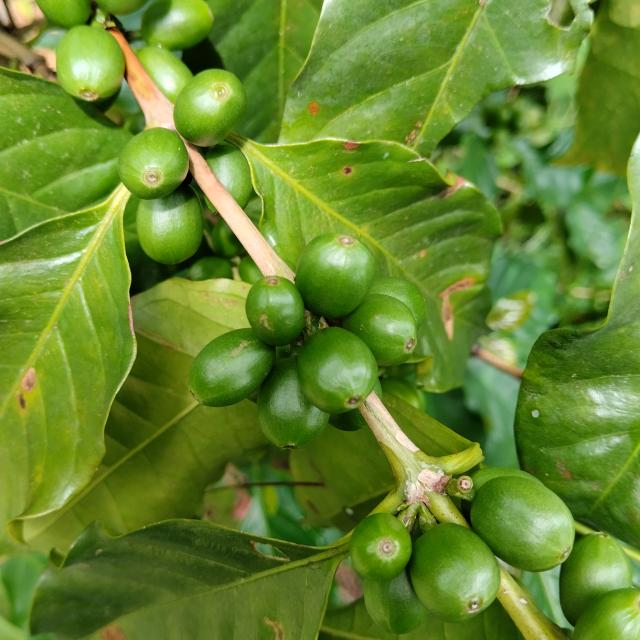green: (471, 477, 576, 573), (410, 524, 501, 624), (295, 234, 379, 319), (297, 327, 378, 414), (188, 328, 276, 407), (257, 355, 330, 449), (560, 533, 633, 627), (173, 68, 246, 146), (343, 294, 417, 366), (55, 24, 124, 101), (136, 185, 203, 264), (118, 127, 188, 199), (350, 514, 412, 582), (245, 276, 305, 346), (140, 0, 213, 49), (574, 589, 640, 640), (135, 45, 193, 102), (204, 143, 252, 208), (369, 277, 426, 329)
